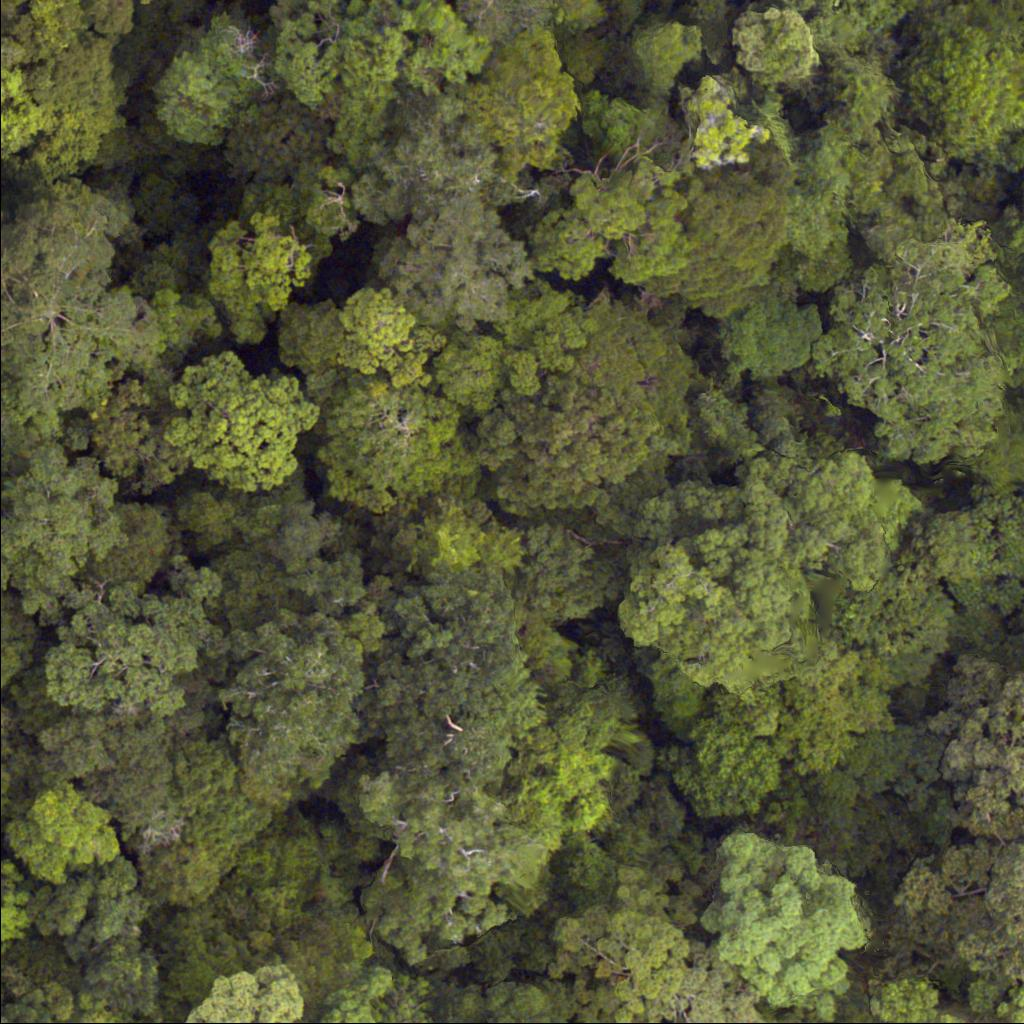crown: (620, 454, 851, 697), (827, 243, 1022, 471), (0, 182, 164, 439), (336, 759, 542, 961), (254, 0, 479, 154), (706, 830, 869, 1019), (374, 573, 515, 790), (212, 621, 364, 812), (317, 377, 482, 531), (165, 349, 315, 490), (473, 27, 595, 172), (662, 710, 791, 826), (42, 850, 150, 972), (4, 792, 110, 889), (959, 836, 1023, 980), (186, 965, 306, 1023), (935, 987, 1023, 1023), (0, 955, 40, 1023), (0, 782, 2, 852)
